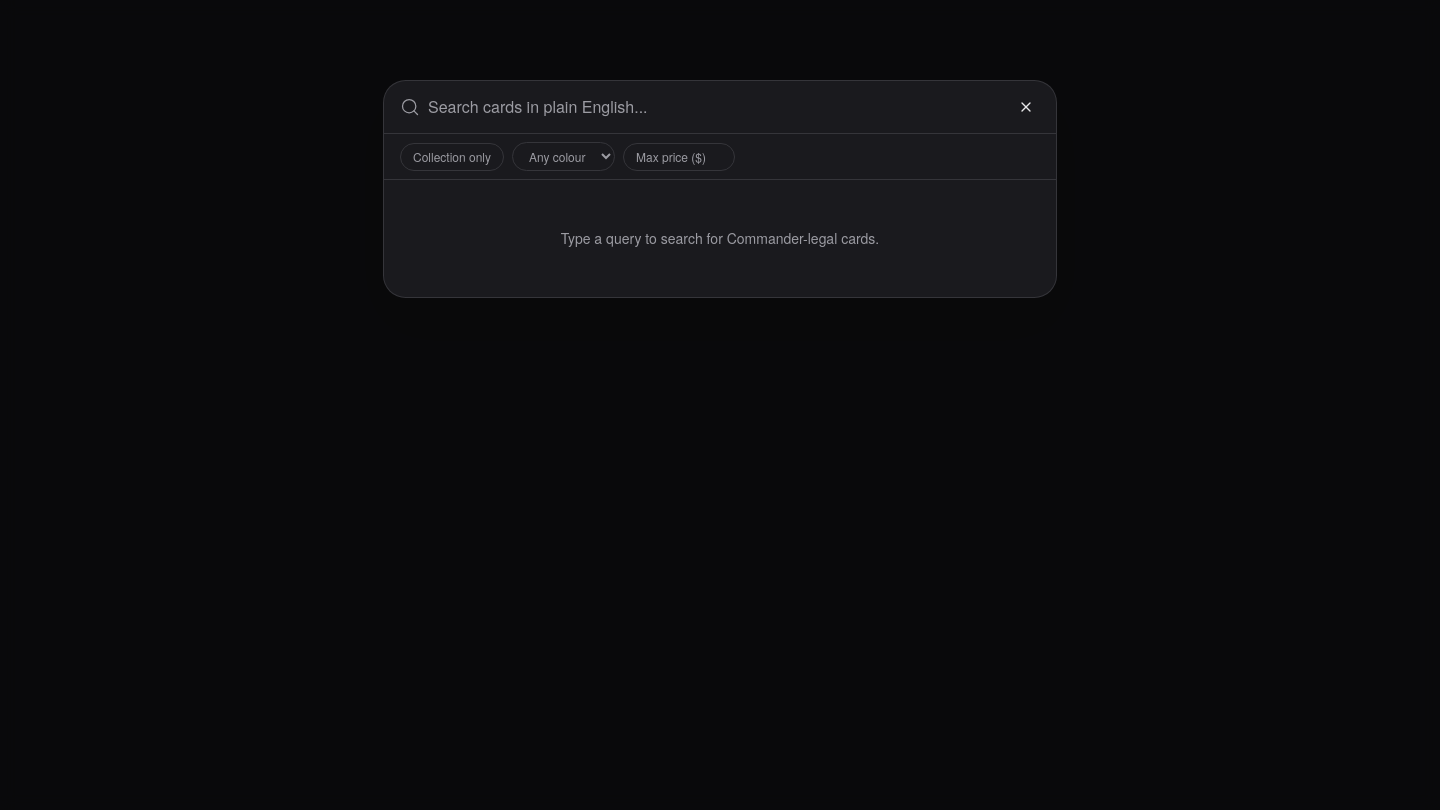
Test: SmartSearch › shows loading skeleton while fetching
The width and height of the screenshot is (1440, 810).
Type "ramp" into the field with placeholder "Search cards in plain English...".
click(716, 107); type("ramp")  # box [428,95,1004,119]
Wait 300 ms
(page scrolled)
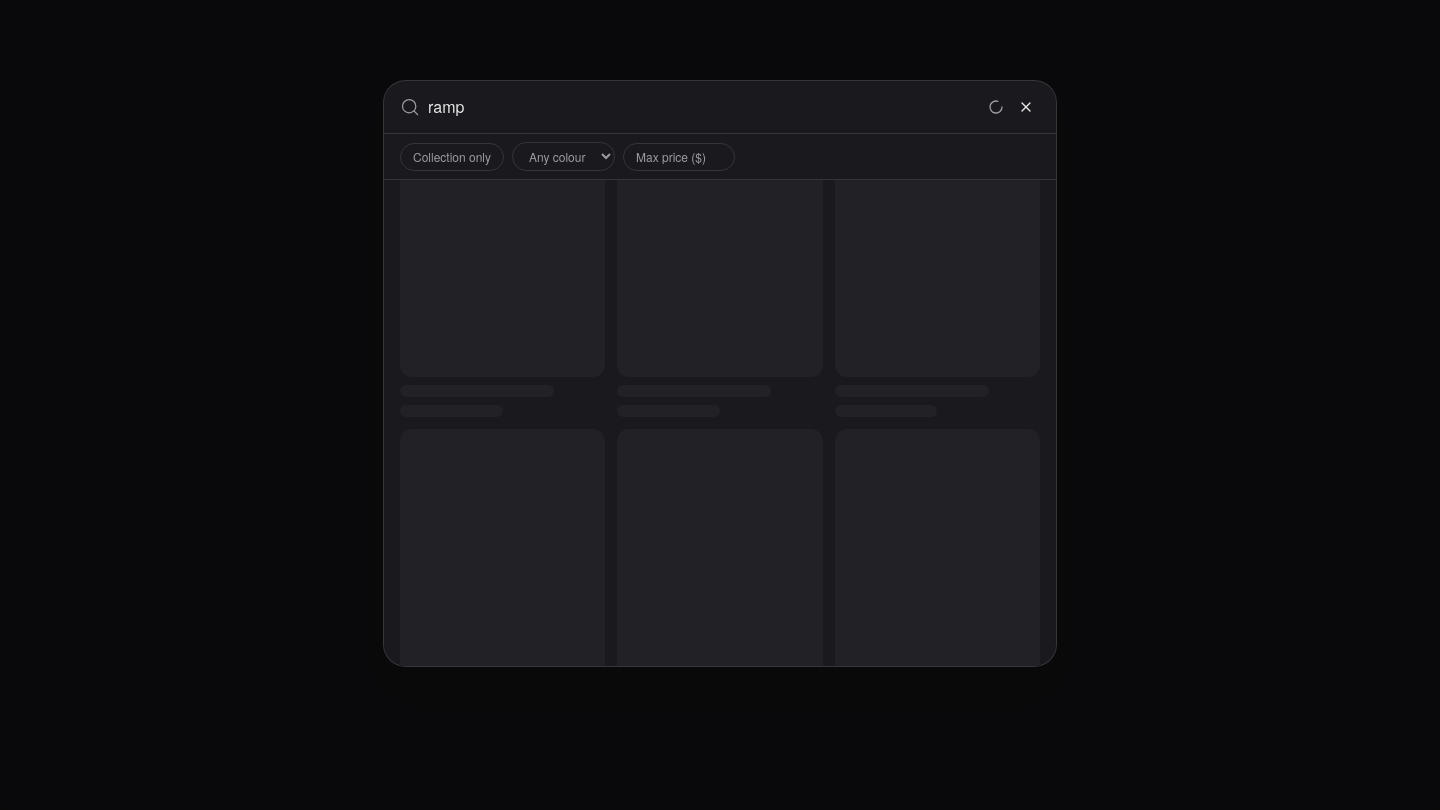
Check: the message named "Loading results" is shown, box [400,180,1040,666]
